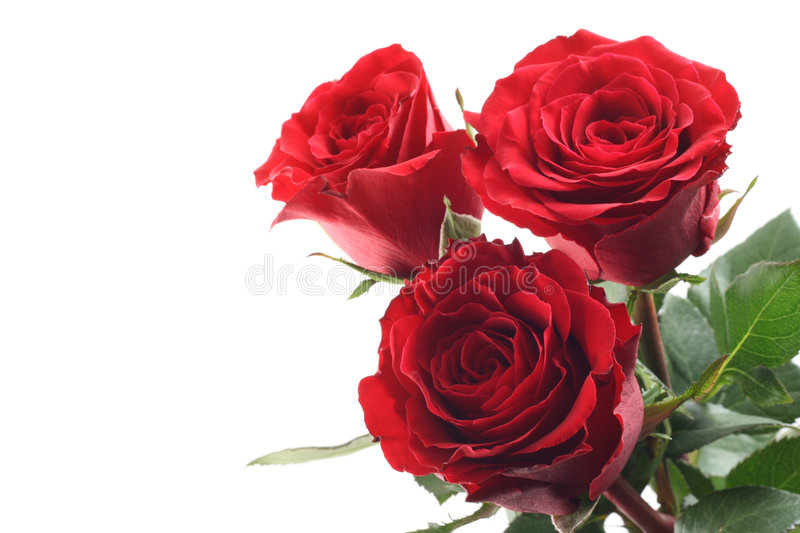RedRose: (353, 208, 661, 533), (468, 24, 753, 256), (259, 26, 519, 277)
